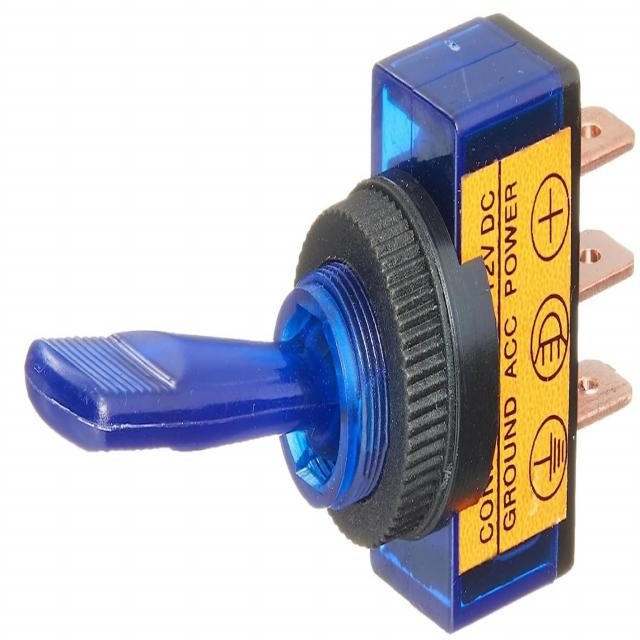toggle switch: (22, 173, 455, 546)
